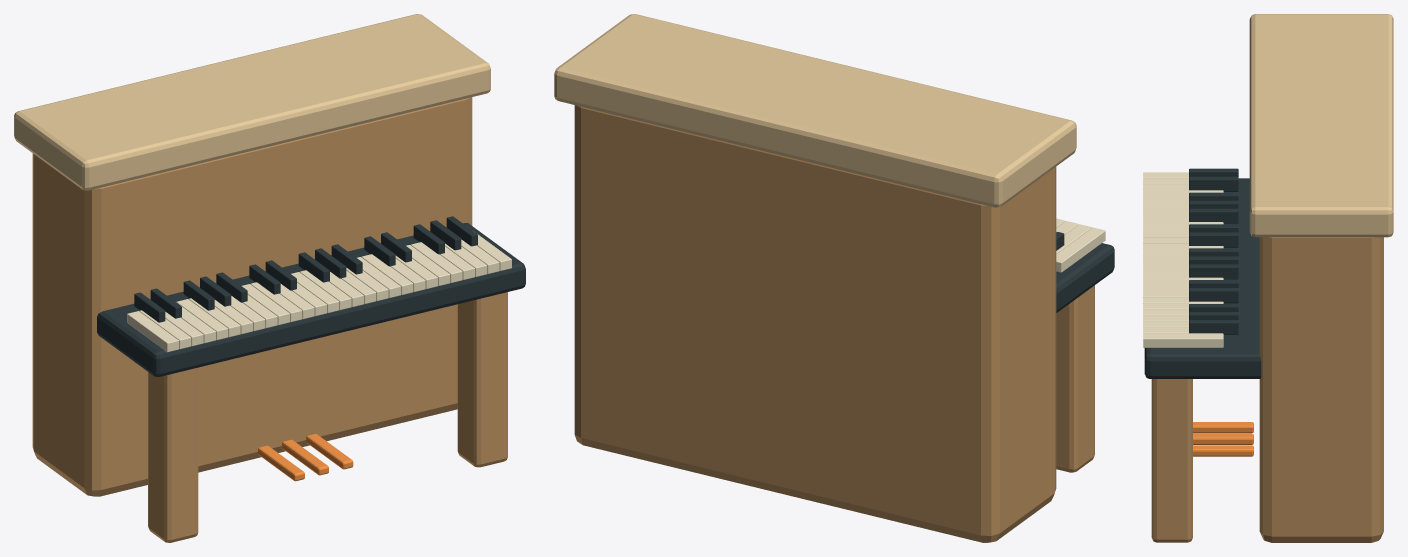
Rendered from S046_upright_piano.glb.
3 views of the same model, side by side, from view 1: azimuth 30°, elevation 25°; view 2: azimuth 150°, elevation 25°; view 3: azimuth 270°, elevation 25° (orthographic). The views are drawn at different scales.
Parts seen in each view (by area): view 1: piano_body, piano_top, keyboard_bed, piano_front_leg, piano_front_leg.001, ivory_key, pedal.002, pedal.001, pedal, ivory_key.004, ivory_key.023, ivory_key.019 (+1 smaller); view 2: piano_body, piano_top, piano_front_leg, keyboard_bed, ivory_key; view 3: piano_body, piano_top, keyboard_bed, piano_front_leg.001, ivory_key.027, black_key.001, black_key.004, black_key.006, pedal.001, black_key.009, black_key.011, pedal (+30 smaller).
Part boxes in pixels (x1,y1,x2,y2): piano_body: [32, 97, 472, 496]; piano_top: [14, 14, 490, 190]; keyboard_bed: [97, 223, 525, 376]; piano_front_leg: [148, 367, 198, 542]; piano_front_leg.001: [457, 292, 507, 467]; ivory_key: [127, 311, 178, 352]; pedal.002: [306, 434, 353, 469]; pedal.001: [282, 439, 328, 475]; pedal: [258, 445, 304, 481]; ivory_key.004: [176, 299, 228, 340]; ivory_key.023: [411, 242, 462, 282]; ivory_key.019: [361, 254, 413, 294]; piano_body: [574, 105, 1056, 542]; piano_top: [554, 14, 1076, 207]; piano_front_leg: [1056, 285, 1094, 472]; keyboard_bed: [1056, 243, 1114, 312]; ivory_key: [1056, 227, 1105, 272]; piano_body: [1259, 237, 1383, 542]; piano_top: [1249, 14, 1393, 237]; keyboard_bed: [1144, 178, 1261, 378]; piano_front_leg.001: [1151, 379, 1192, 542]; ivory_key.027: [1143, 333, 1223, 347]; black_key.001: [1189, 176, 1238, 191]; black_key.004: [1189, 208, 1238, 223]; black_key.006: [1189, 232, 1238, 247]; pedal.001: [1193, 433, 1253, 444]; black_key.009: [1189, 264, 1238, 279]; black_key.011: [1189, 288, 1238, 303]; pedal: [1193, 422, 1253, 433].
Size of the model in its own units: 1.69 by 1.4 by 0.905.
